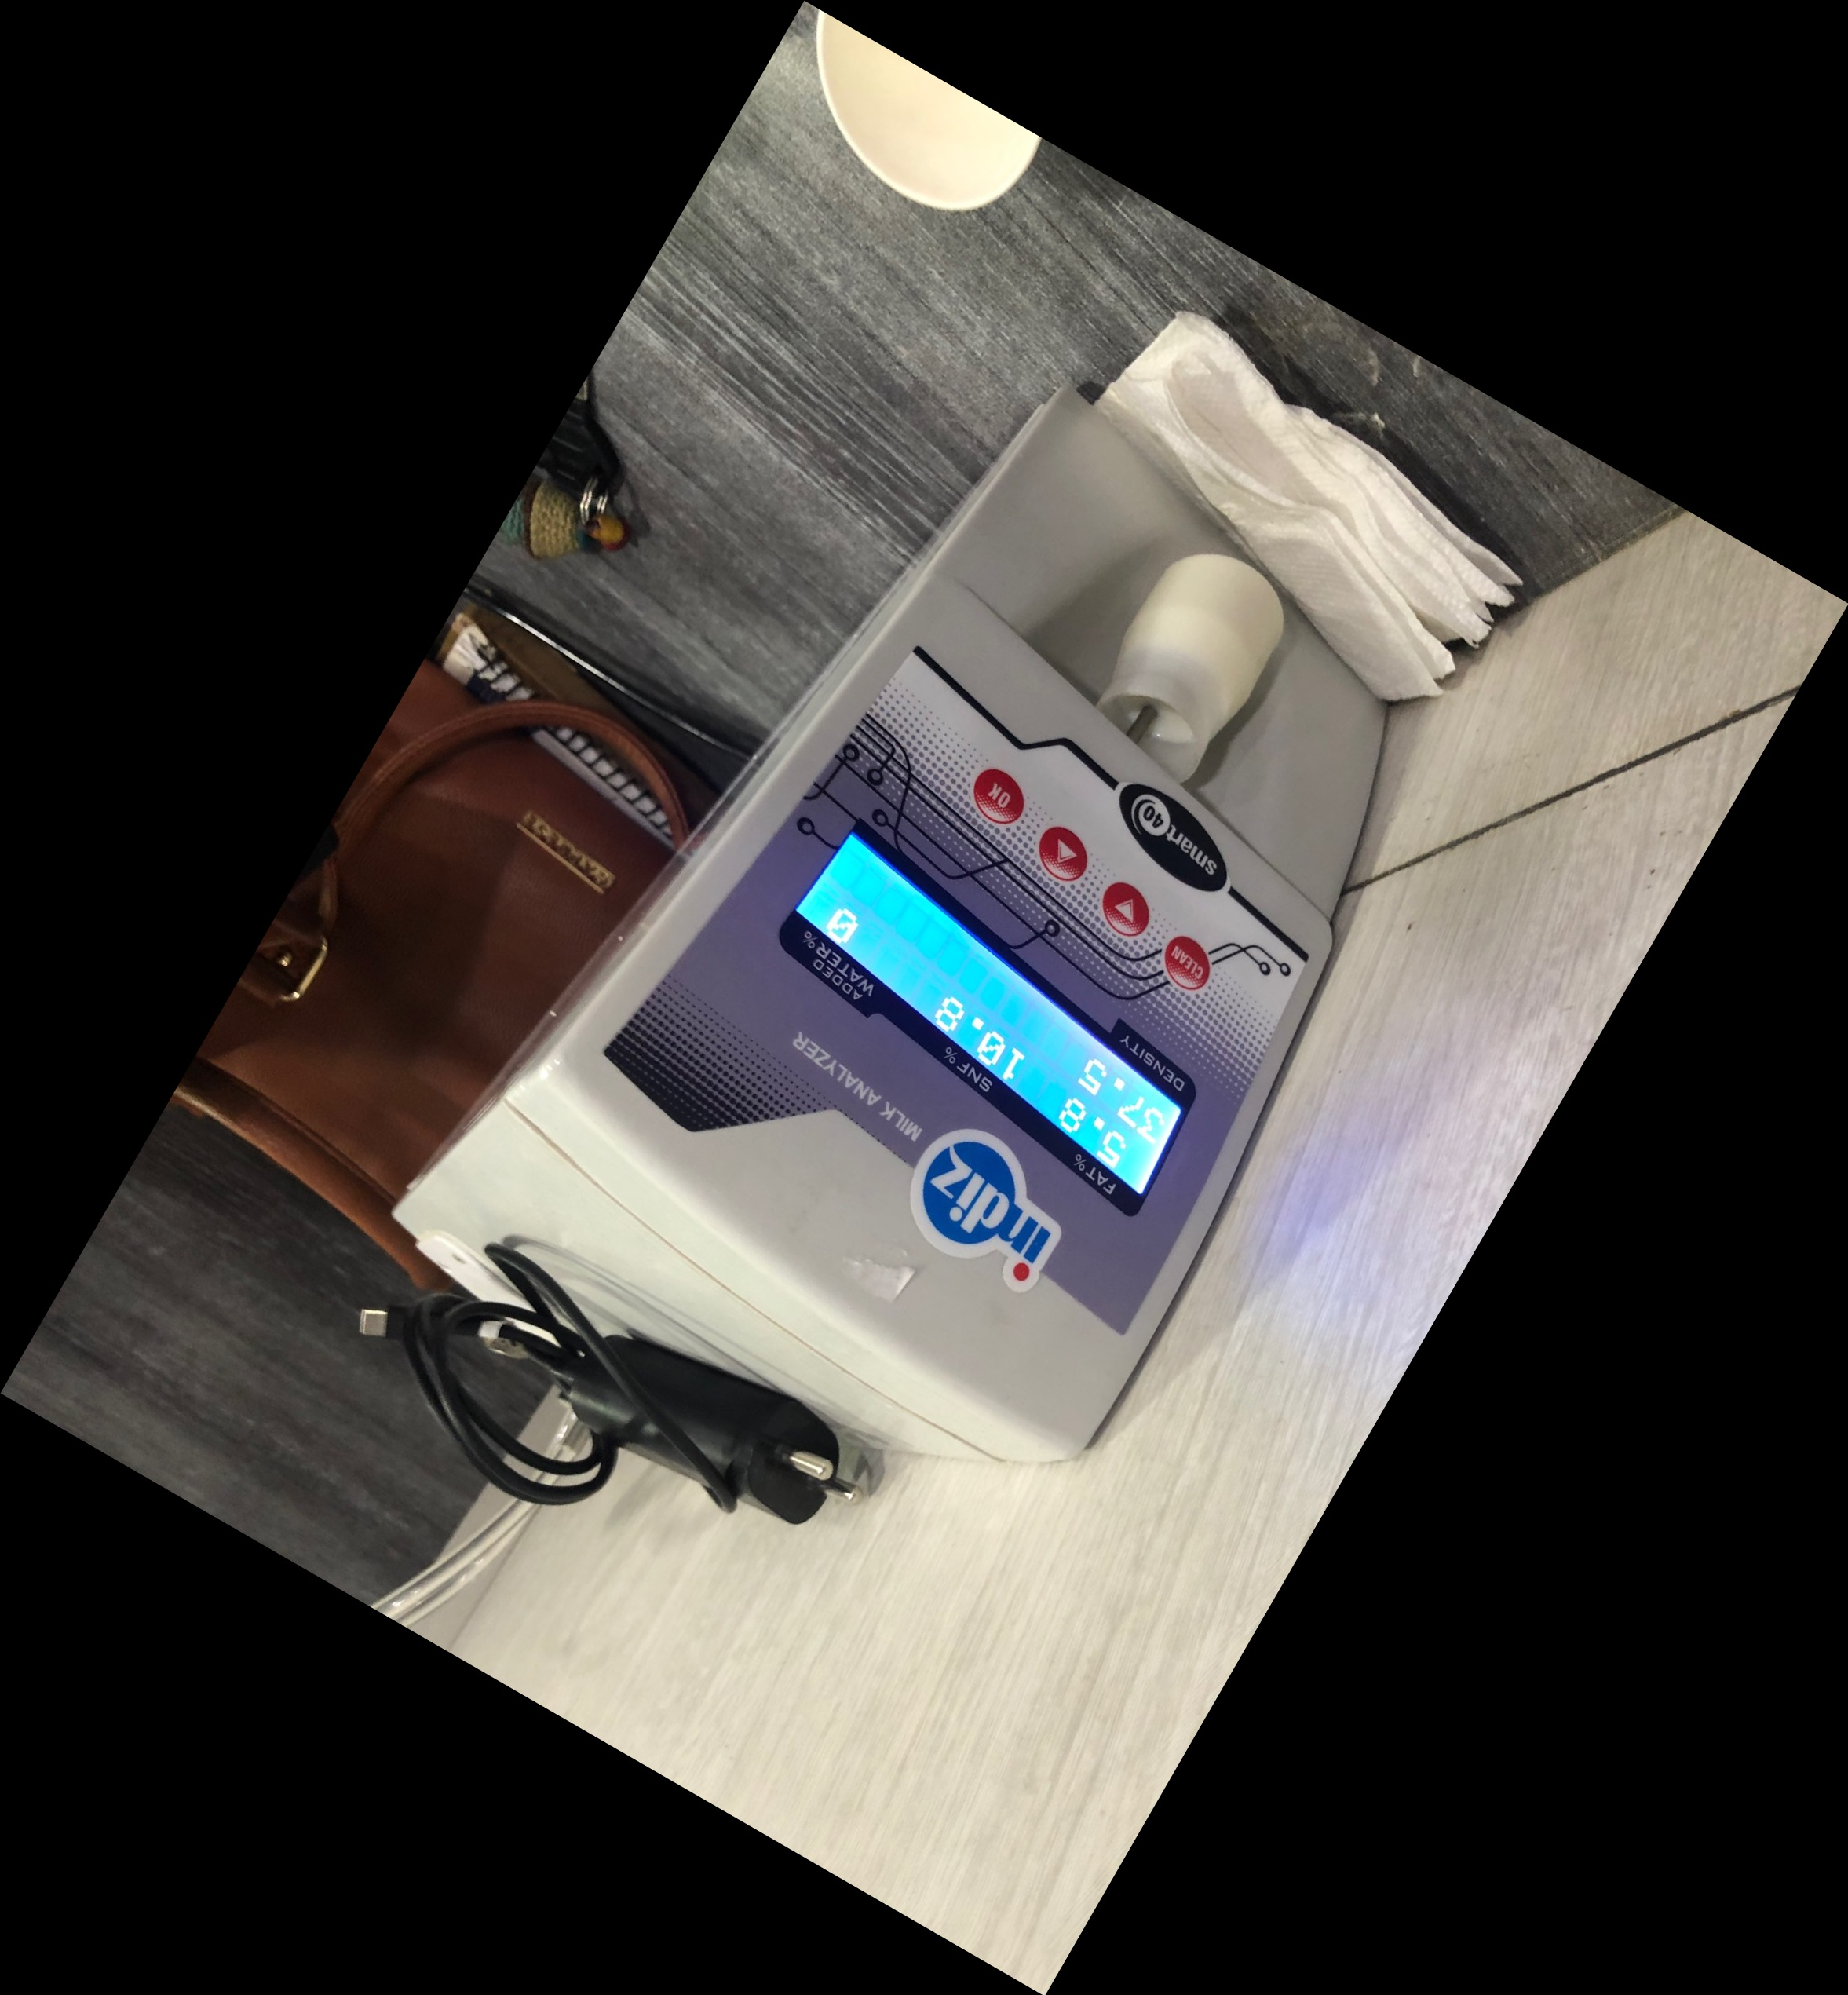lcd: (768, 815, 1230, 1244)
